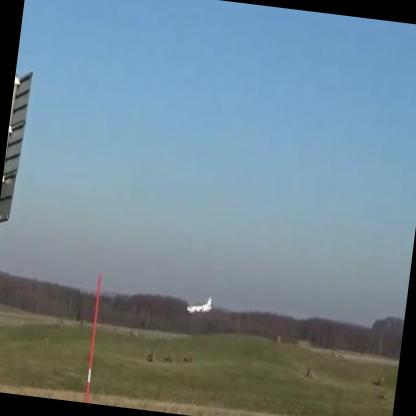plane: (187, 294, 214, 315)
